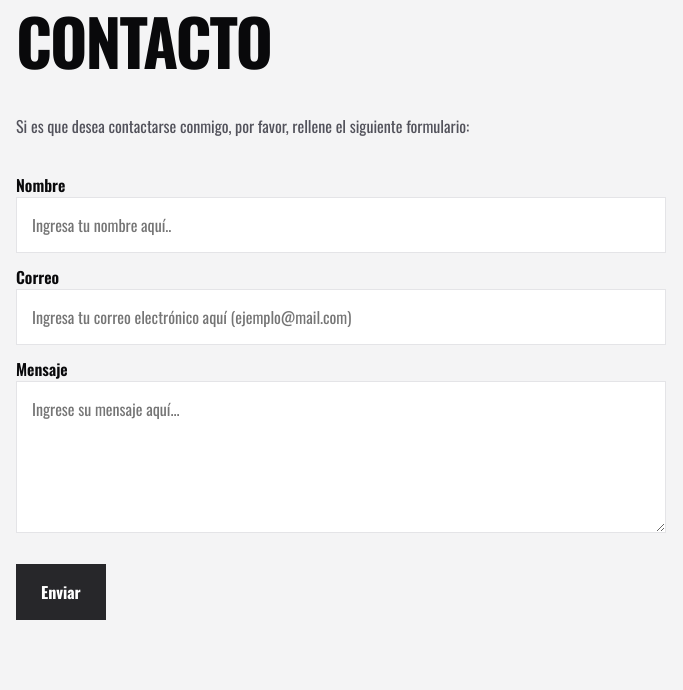
it: Componente de Contacto › Debe mostrar un mensaje al enviar todos los datos exitosamente.
Type "Pedro Perez" into the field labelled "Nombre" at (341, 225), box [16,197,666,253]
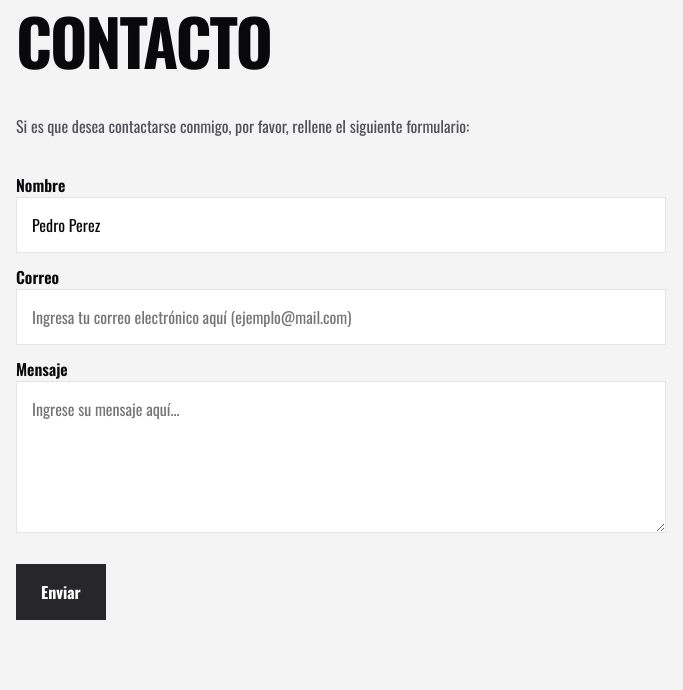
Type "pedrito@email.com" into the field labelled "Correo" at (341, 317), box [16,289,666,345]
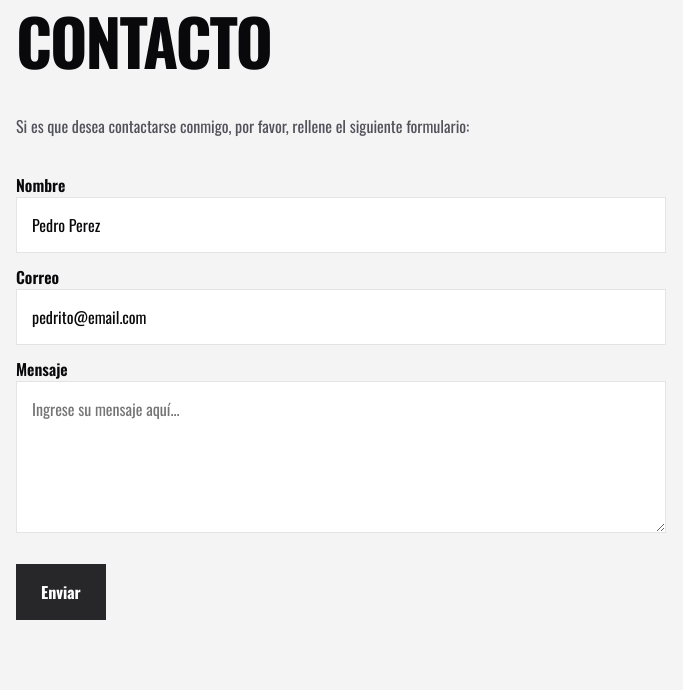
Type "ABC ABC 123 123 Hola" into the text box labelled "Mensaje" at (341, 457), box [16,381,666,533]
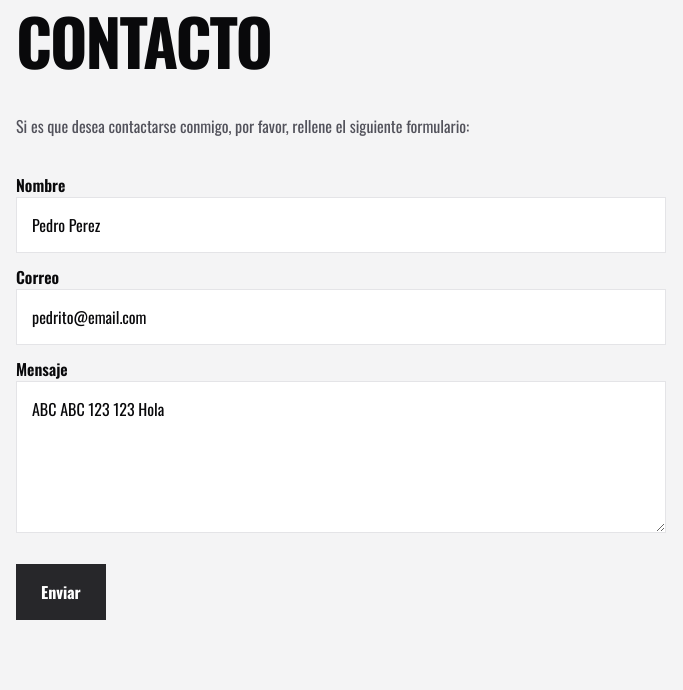
Click the button "Enviar" at (61, 592), box [16,564,106,620]
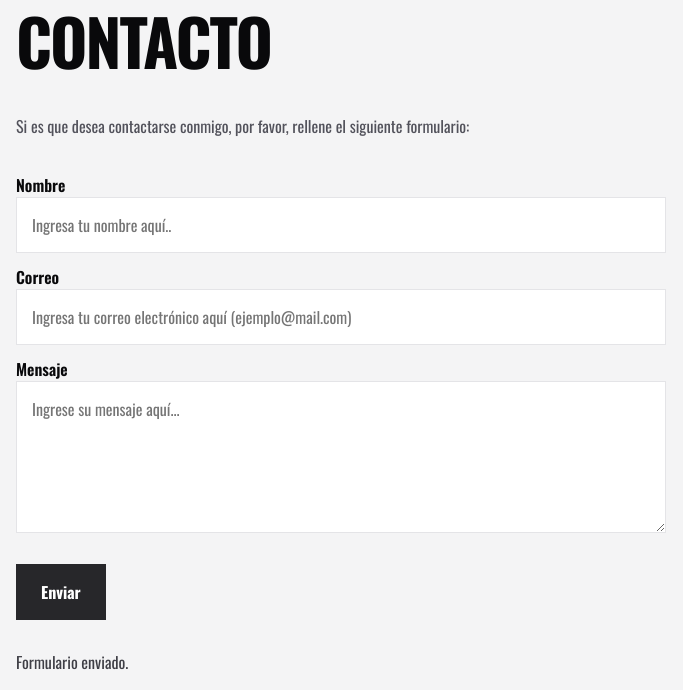
Expected: the message reads "Formulario enviado.", [16,650,128,674]
Expected: the field labelled "Nombre" is empty, [16,197,666,253]
Expected: the field labelled "Correo" is empty, [16,289,666,345]
